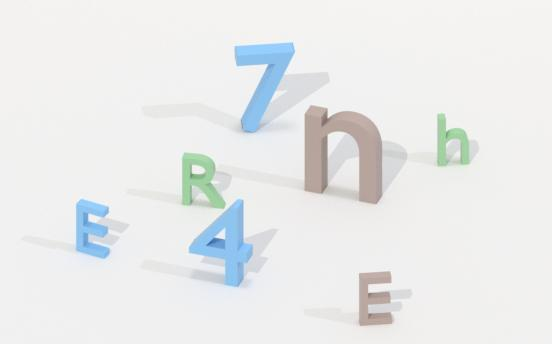4: (187, 194, 256, 290)
7: (232, 40, 296, 134)
E-hoa: (72, 198, 113, 264), (357, 270, 393, 332)
R-hoa: (180, 149, 227, 211)
h: (436, 111, 472, 171)
n: (301, 100, 385, 207)
